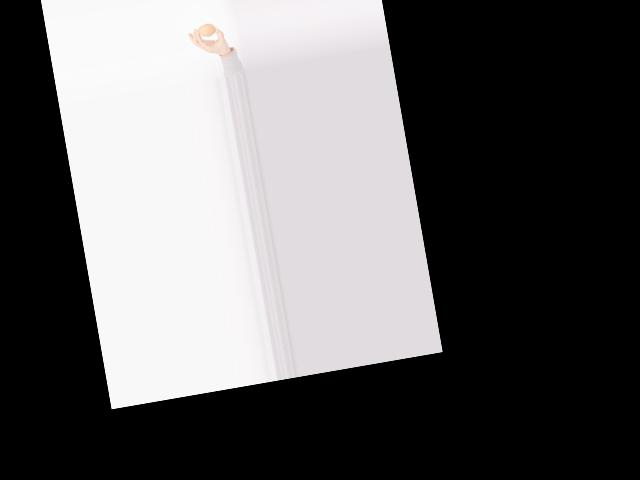egg: (196, 22, 216, 37)
